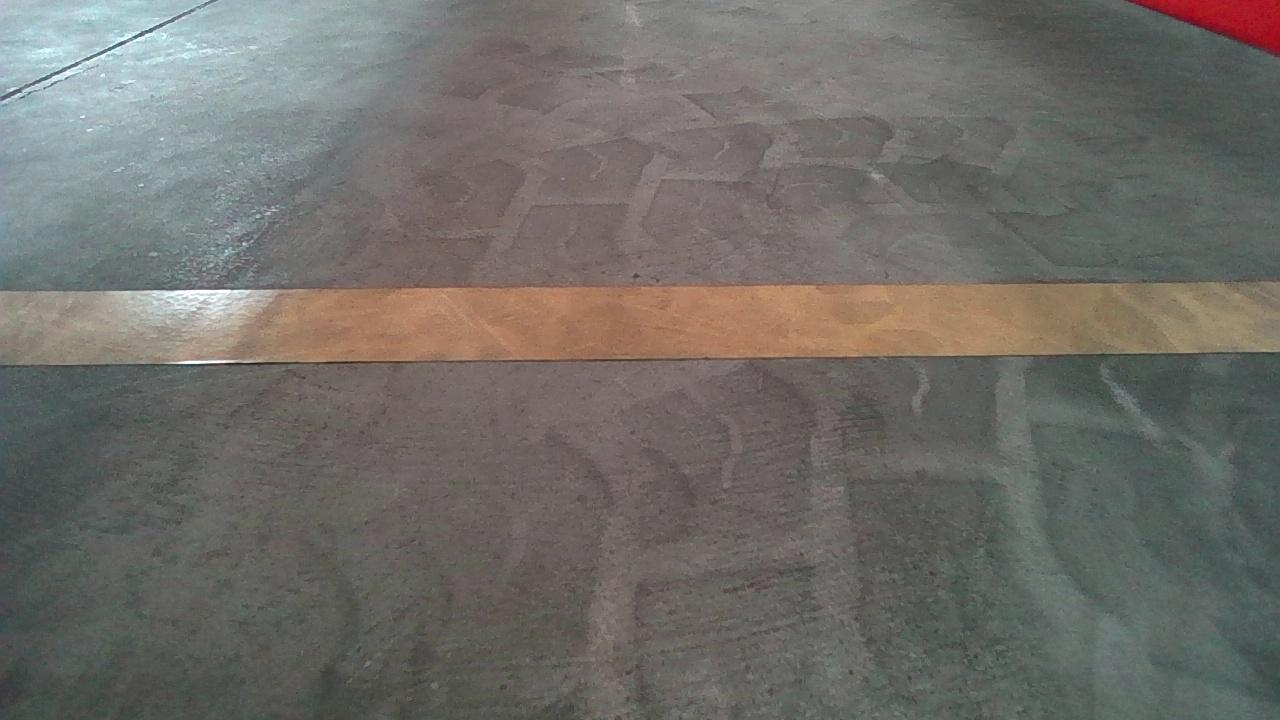yellow_line: (0, 275, 1278, 365)
